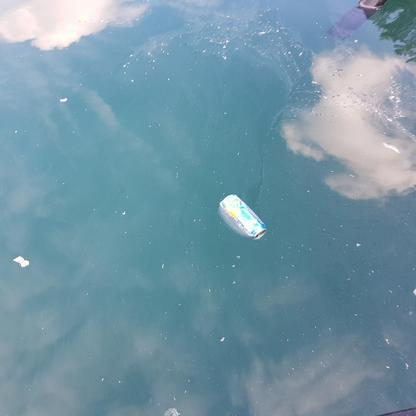can: (218, 194, 267, 241)
